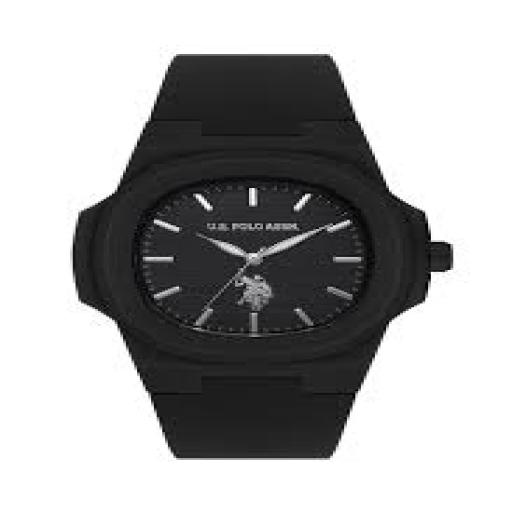KolSaati: (69, 25, 456, 468)
